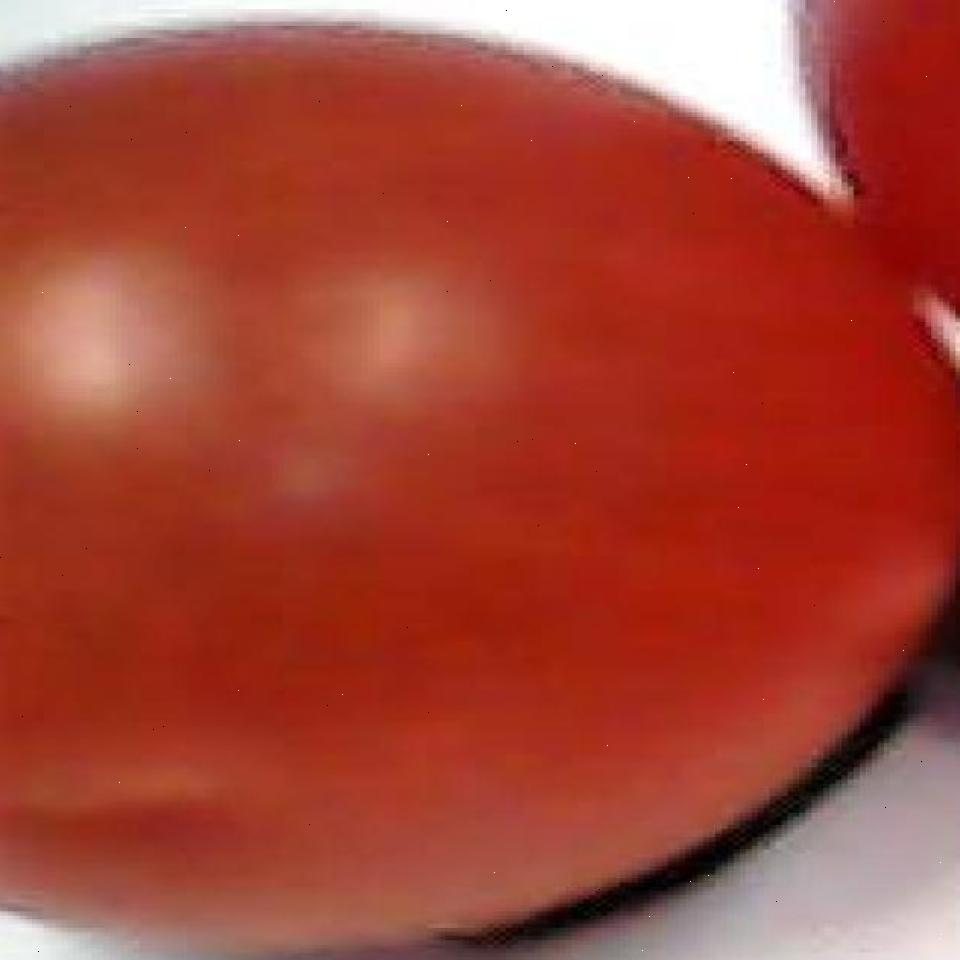Healthy: (0, 14, 960, 948)
